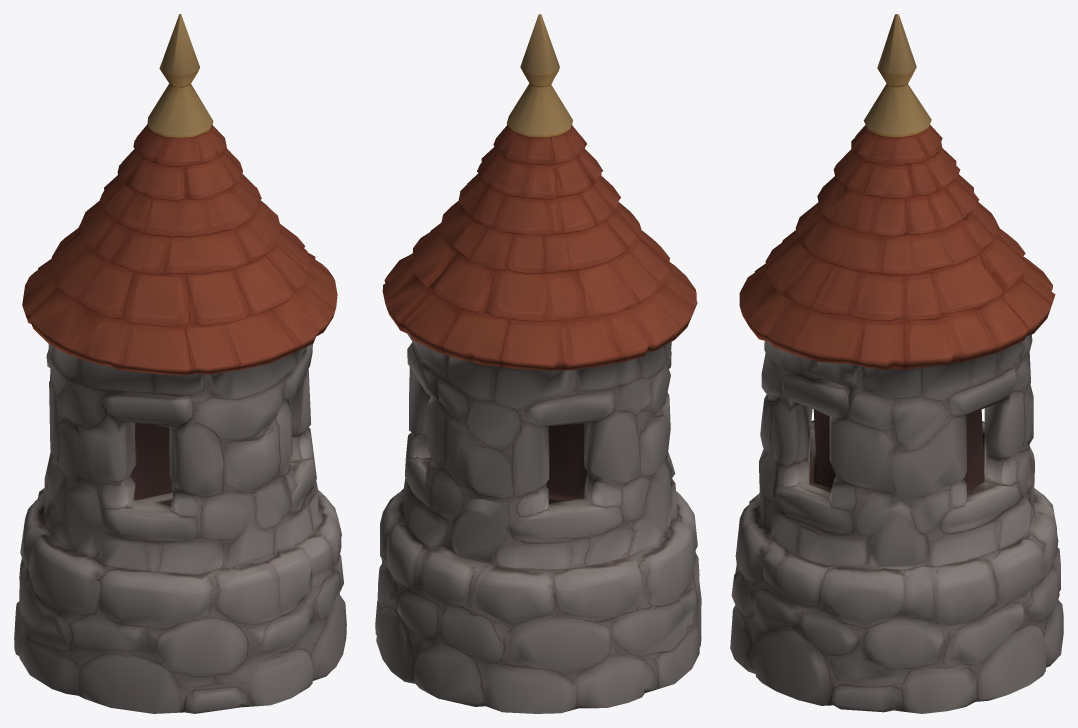
File: addon_bartizan_tripo.glb
3 views of the same model, side by side, from view 1: azimuth 30°, elevation 25°; view 2: azimuth 150°, elevation 25°; view 3: azimuth 270°, elevation 25° (orthographic).
Parts seen in each view (by area): view 1: tripo_node_99344698-c676-4ecb-bc39-d32969ac41bc; view 2: tripo_node_99344698-c676-4ecb-bc39-d32969ac41bc; view 3: tripo_node_99344698-c676-4ecb-bc39-d32969ac41bc.
Part boxes in pixels (x1,y1,x2,y2): tripo_node_99344698-c676-4ecb-bc39-d32969ac41bc: (14, 14, 346, 713); tripo_node_99344698-c676-4ecb-bc39-d32969ac41bc: (375, 14, 701, 713); tripo_node_99344698-c676-4ecb-bc39-d32969ac41bc: (730, 14, 1063, 713).
Bounding box in the file's own units: 0.4746 × 0.998 × 0.4785.
1 material, 1 textured.
